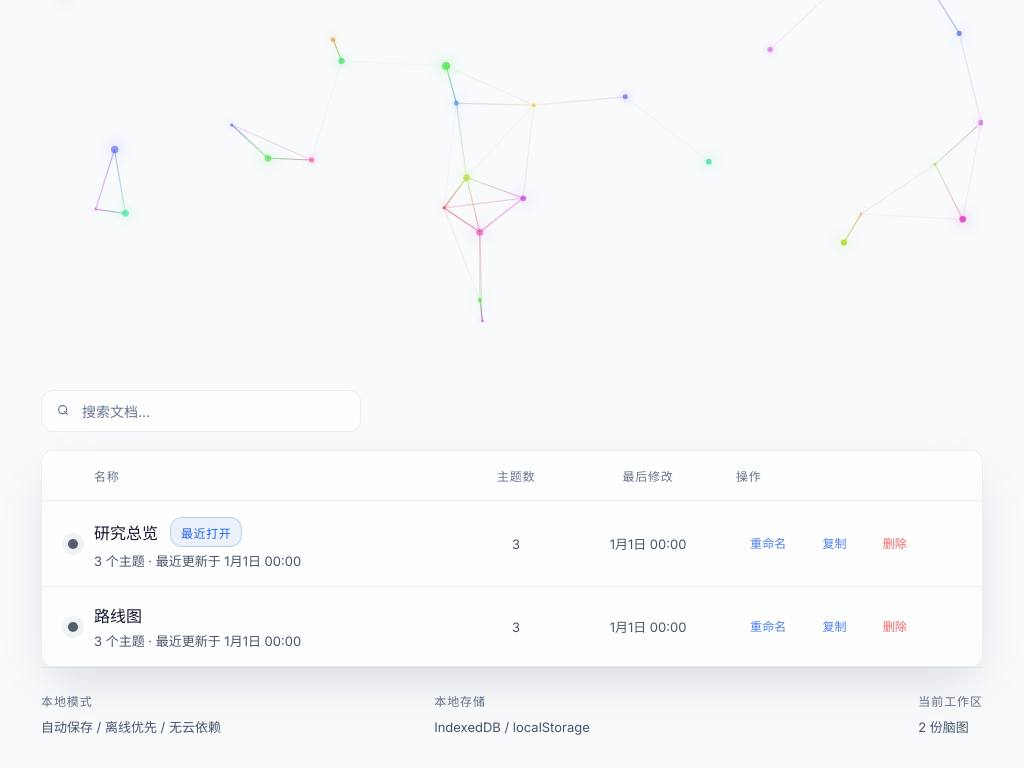
Scenario: HomePage › filters documents by local search query
(page scrolled)
Type "研究" into the search field labelled "搜索文档" at (214, 411), box [82,403,346,420]
(page scrolled)
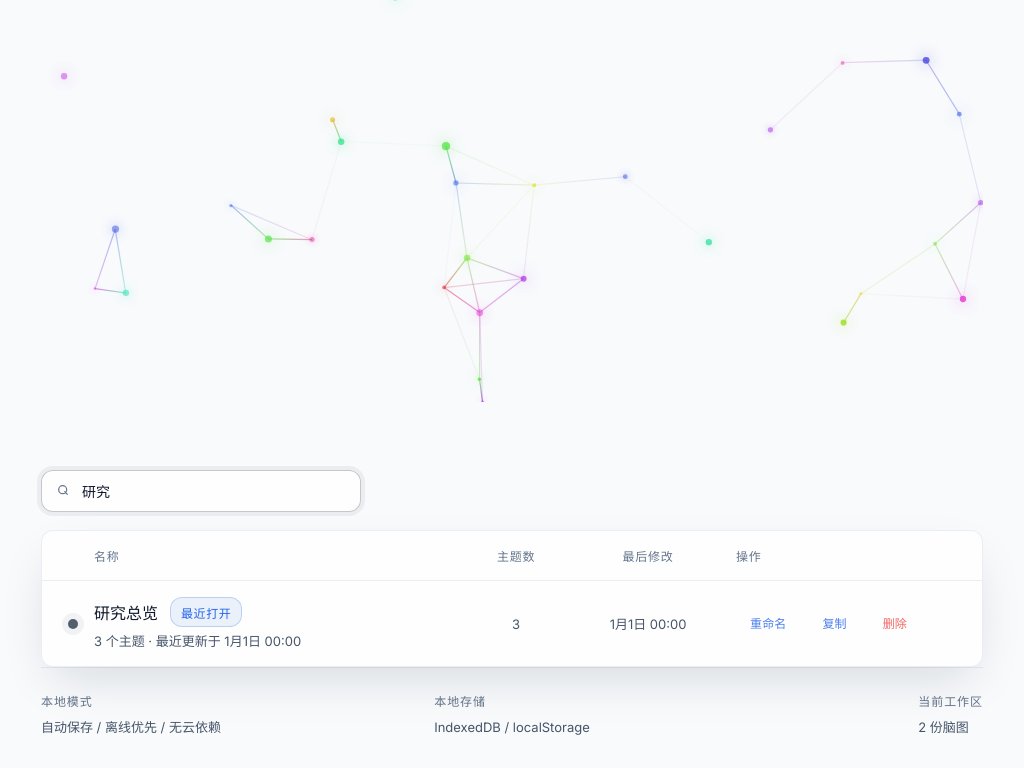
Expected: the button "研究总览" is shown, [94,600,158,624]
Now the button "路线图" is gone
